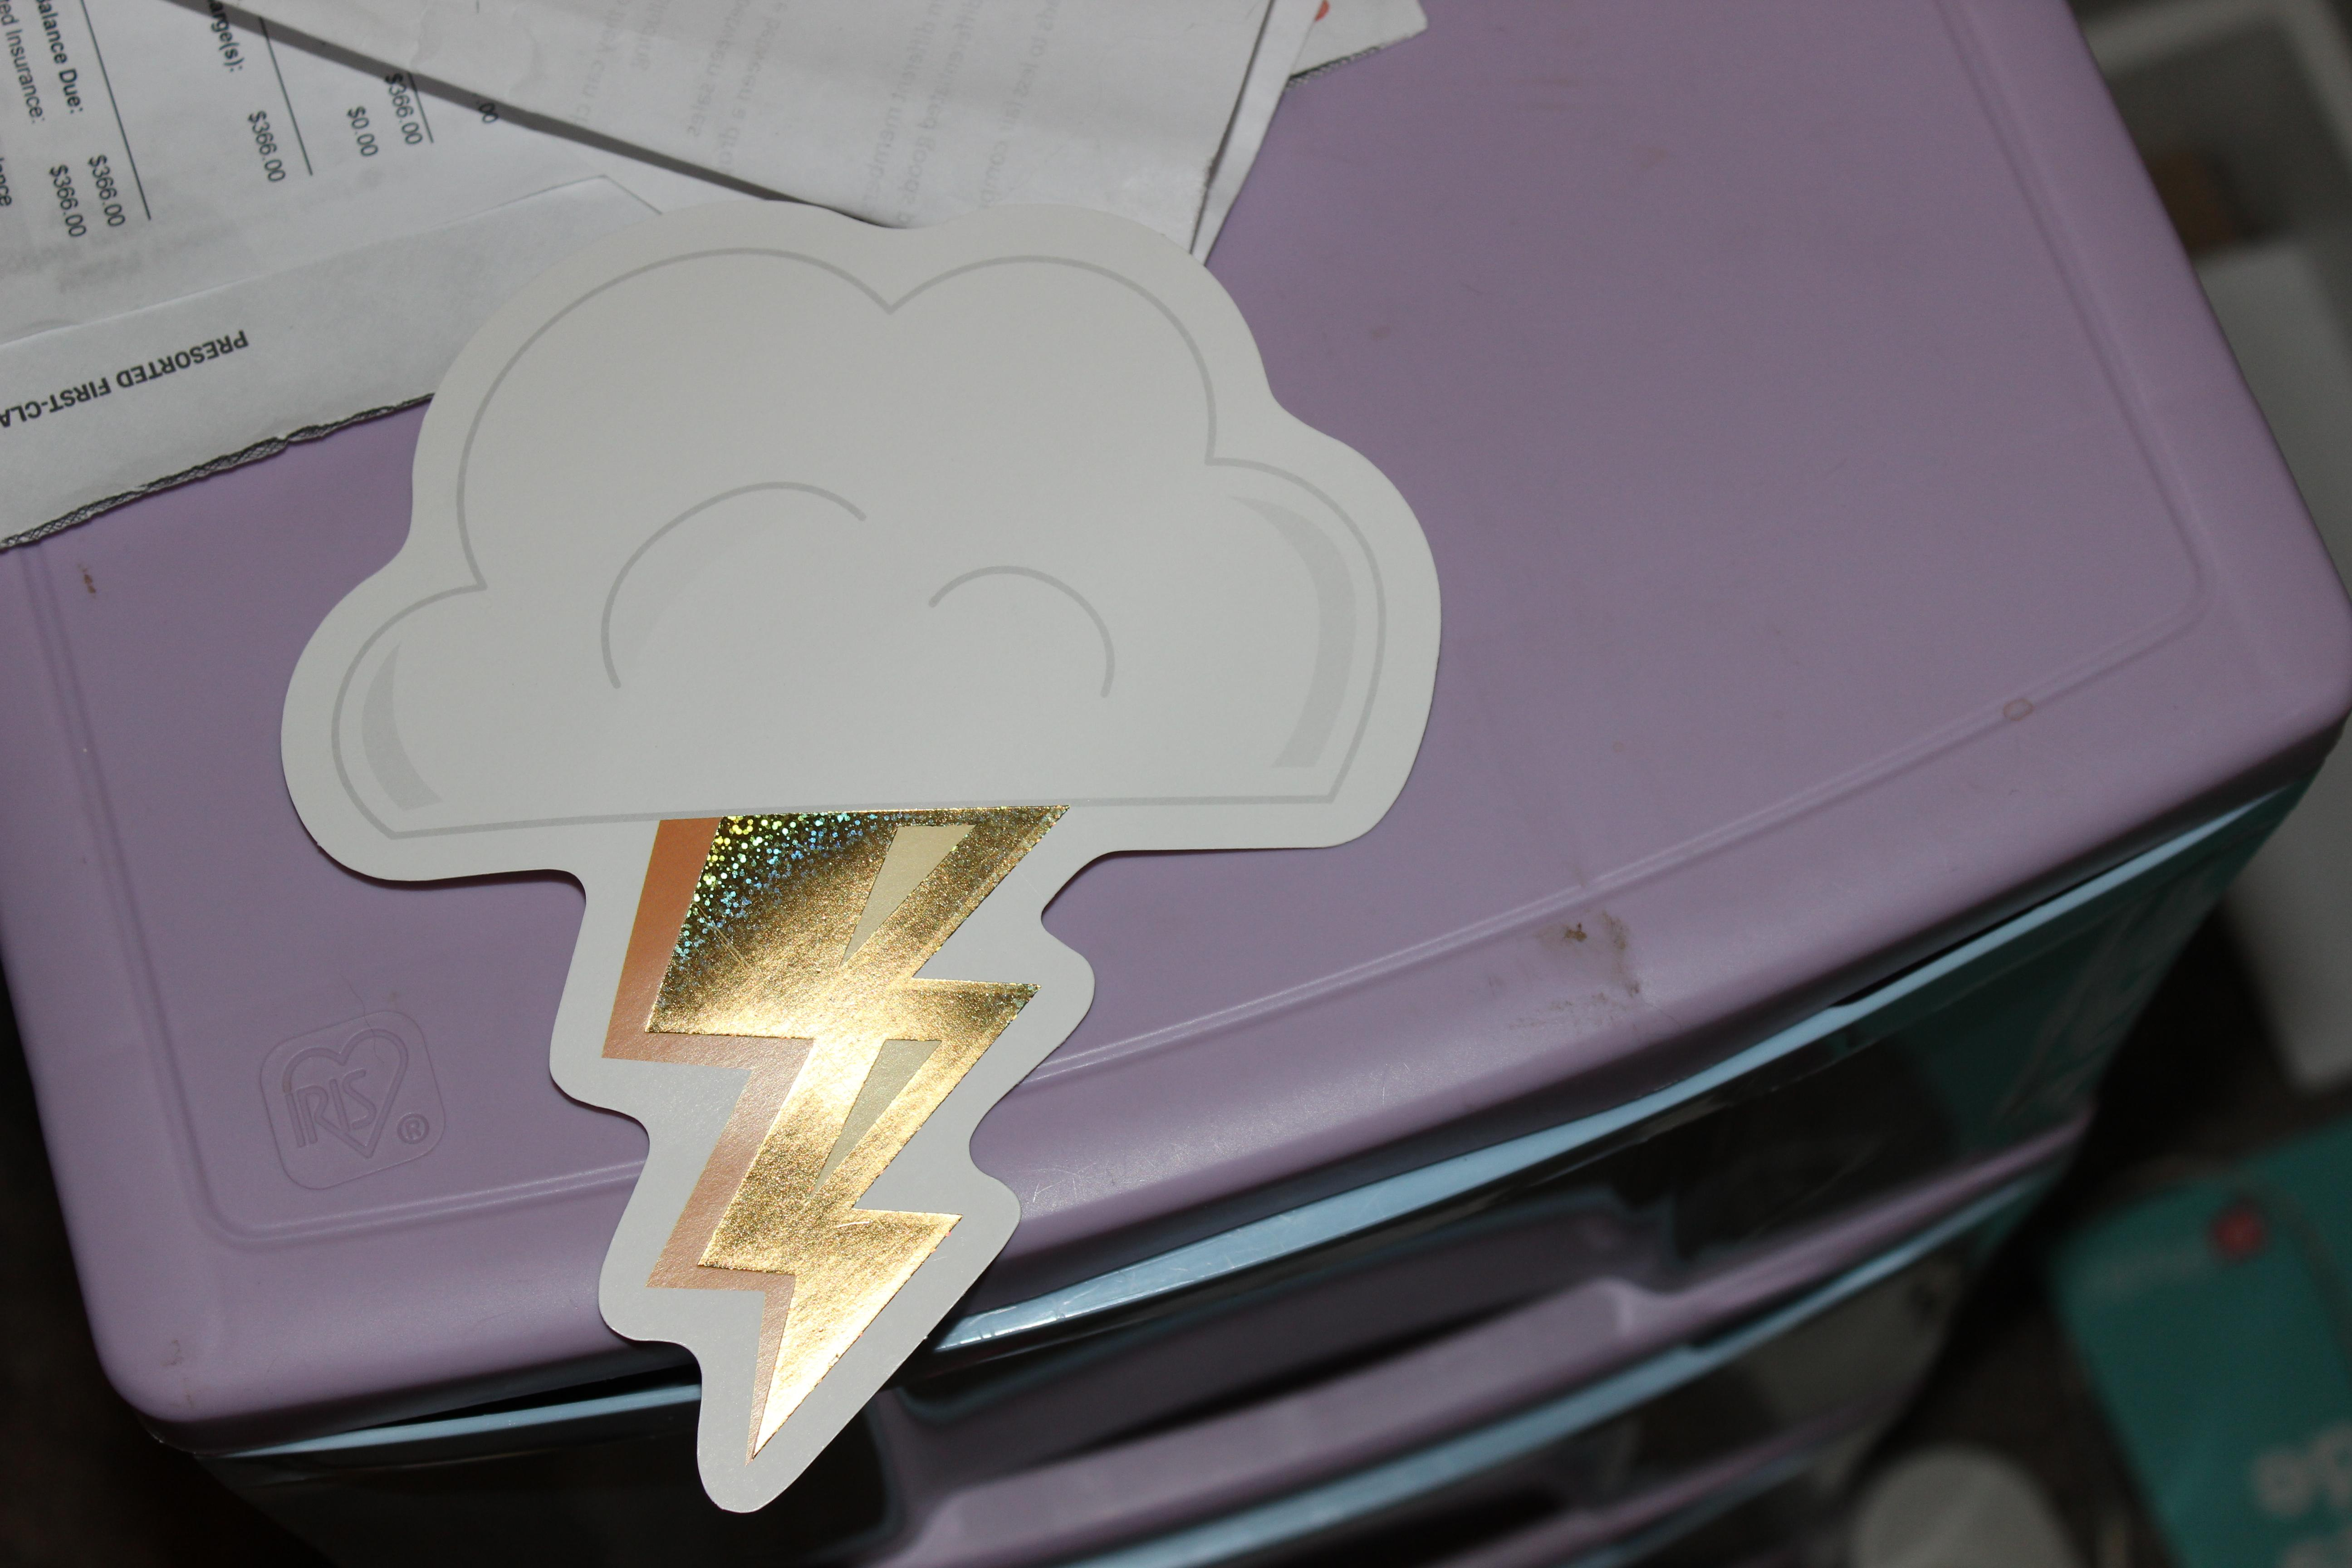cloudSign: (255, 178, 1473, 1545)
